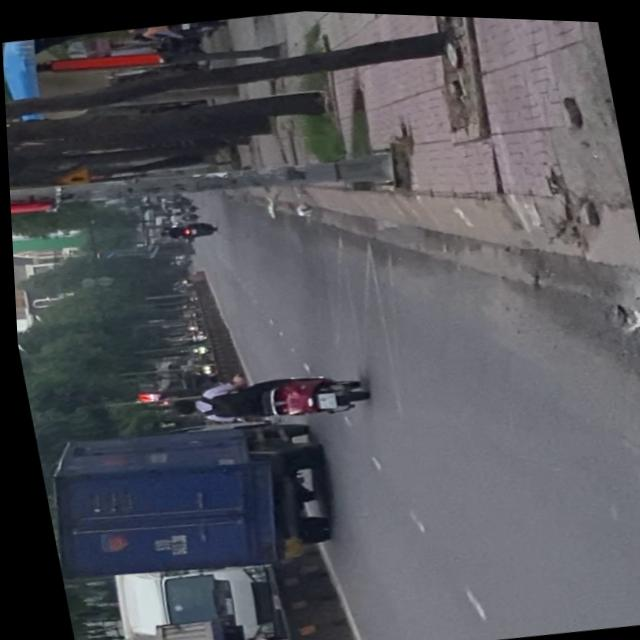licenseplate: (161, 356, 369, 436)
motorcyclist: (166, 395, 199, 418)
nohelmet: (311, 388, 334, 407)
